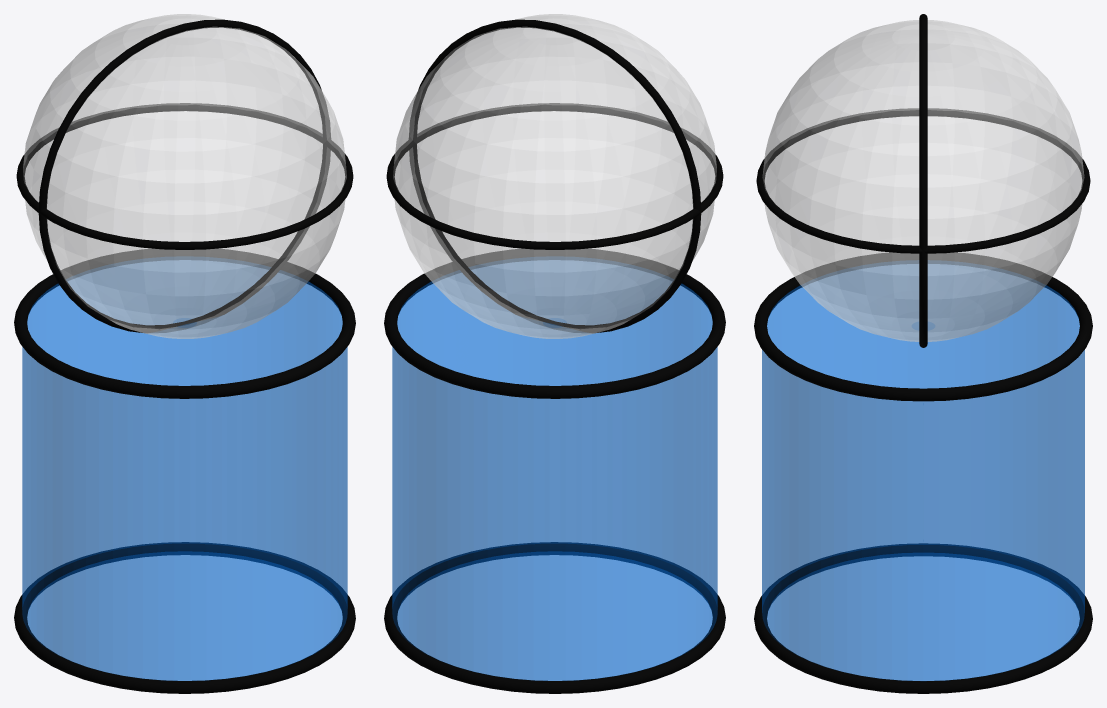
3 renders of one model, left to right at view 1: azimuth 30°, elevation 25°; view 2: azimuth 150°, elevation 25°; view 3: azimuth 270°, elevation 25°, orthographic.
Parts seen in each view (by area): view 1: TopRing; view 2: TopRing; view 3: TopRing.
Boxes of the visible parts, box(x1,y1,x2,y2) form: TopRing: box(14, 14, 355, 693); TopRing: box(384, 14, 725, 693); TopRing: box(754, 14, 1092, 693).
Bounding box in the file's own units: 210 × 407 × 210.
